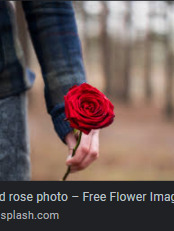RedRose: (65, 80, 115, 131)
